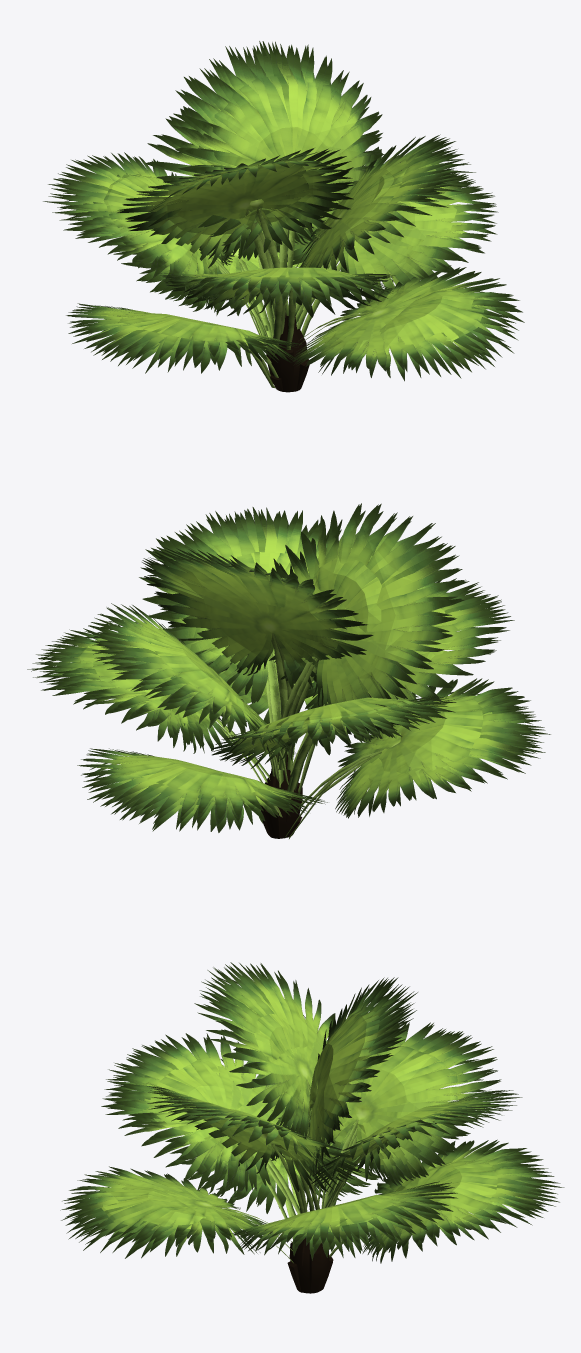
Rendered from TreePalm_Rond.FBX.
The picture shows the model from 3 angles, top to bottom: view 1: azimuth 30°, elevation 25°; view 2: azimuth 150°, elevation 25°; view 3: azimuth 270°, elevation 25°; orthographic projection. The views are drawn at different scales.
Visible parts, largest first — view 1: TreePalm_Rond_LOD1, TreePalm_Rond_LOD4, TreePalm_Rond_LOD2, TreePalm_Rond_LOD3; view 2: TreePalm_Rond_LOD2, TreePalm_Rond_LOD4, TreePalm_Rond_LOD1, TreePalm_Rond_LOD3; view 3: TreePalm_Rond_LOD1, TreePalm_Rond_LOD4, TreePalm_Rond_LOD2, TreePalm_Rond_LOD3.
Boxes of the visible parts, x1,y1,x2,y2 form: TreePalm_Rond_LOD1: (59, 53, 524, 392); TreePalm_Rond_LOD4: (53, 42, 515, 388); TreePalm_Rond_LOD2: (48, 41, 516, 383); TreePalm_Rond_LOD3: (43, 41, 522, 374); TreePalm_Rond_LOD2: (32, 504, 545, 837); TreePalm_Rond_LOD4: (38, 505, 544, 838); TreePalm_Rond_LOD1: (31, 510, 540, 838); TreePalm_Rond_LOD3: (27, 503, 550, 832); TreePalm_Rond_LOD1: (61, 977, 546, 1293); TreePalm_Rond_LOD4: (62, 962, 554, 1257); TreePalm_Rond_LOD2: (64, 963, 560, 1267); TreePalm_Rond_LOD3: (60, 964, 564, 1267).
Size of the model in its own units: 275 by 165 by 267.
